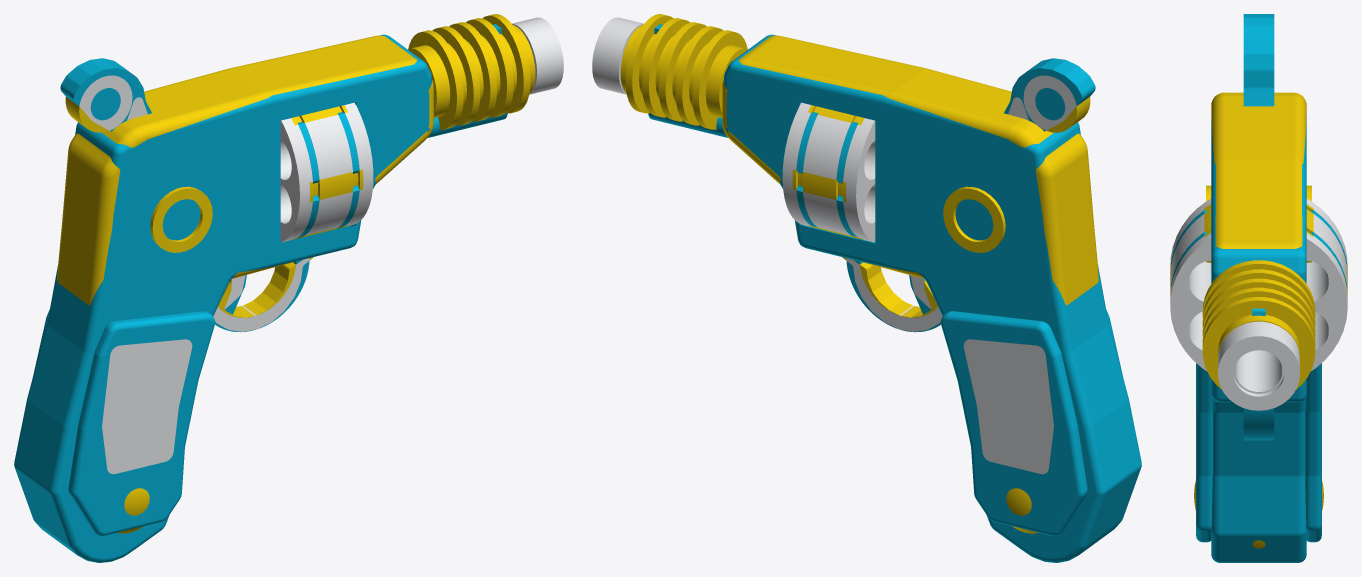
3 renders of one model, left to right at view 1: azimuth 30°, elevation 25°; view 2: azimuth 150°, elevation 25°; view 3: azimuth 270°, elevation 25°, orthographic. The views are drawn at different scales.
Visible parts, largest first — view 1: =>[0:1:1:59], =>[0:1:1:60], =>[0:1:1:86], =>[0:1:1:98], =>[0:1:1:108], =>[0:1:1:41], =>[0:1:1:32], =>[0:1:1:95], =>[0:1:1:62], =>[0:1:1:56], =>[0:1:1:99], =>[0:1:1:89] (+7 smaller); view 2: =>[0:1:1:59], =>[0:1:1:60], =>[0:1:1:85], =>[0:1:1:98], =>[0:1:1:108], =>[0:1:1:38], =>[0:1:1:32], =>[0:1:1:95], =>[0:1:1:62], =>[0:1:1:56], =>[0:1:1:100], =>[0:1:1:89] (+7 smaller); view 3: =>[0:1:1:60], =>[0:1:1:98], =>[0:1:1:32], =>[0:1:1:108], =>[0:1:1:56], =>[0:1:1:89], =>[0:1:1:62], =>[0:1:1:85], =>[0:1:1:86], =>[0:1:1:33], =>[0:1:1:92].
Part boxes in pixels (x1,y1,x2,y2): =>[0:1:1:59]: (102,74,429,334); =>[0:1:1:60]: (14,179,375,562); =>[0:1:1:86]: (68,311,214,535); =>[0:1:1:98]: (102,35,417,147); =>[0:1:1:108]: (408,14,535,129); =>[0:1:1:41]: (102,339,192,474); =>[0:1:1:32]: (280,102,373,242); =>[0:1:1:95]: (57,133,120,305); =>[0:1:1:62]: (150,34,431,138); =>[0:1:1:56]: (512,17,563,94); =>[0:1:1:99]: (150,186,212,252); =>[0:1:1:89]: (60,58,151,131); =>[0:1:1:59]: (726,74,1053,334); =>[0:1:1:60]: (780,179,1141,562); =>[0:1:1:85]: (941,311,1087,535); =>[0:1:1:98]: (738,35,1053,147); =>[0:1:1:108]: (620,14,747,129); =>[0:1:1:38]: (963,339,1053,474); =>[0:1:1:32]: (782,102,875,242); =>[0:1:1:95]: (1035,133,1098,305); =>[0:1:1:62]: (724,34,1005,138); =>[0:1:1:56]: (592,17,643,94); =>[0:1:1:100]: (943,186,1005,252); =>[0:1:1:89]: (1004,58,1095,131); =>[0:1:1:60]: (1211,379,1306,562); =>[0:1:1:98]: (1211,92,1306,248); =>[0:1:1:32]: (1170,199,1347,370); =>[0:1:1:108]: (1202,260,1315,389); =>[0:1:1:56]: (1218,321,1299,410); =>[0:1:1:89]: (1243,14,1274,106); =>[0:1:1:62]: (1211,115,1306,283); =>[0:1:1:85]: (1305,363,1321,542); =>[0:1:1:86]: (1196,363,1212,542); =>[0:1:1:33]: (1233,350,1284,393); =>[0:1:1:92]: (1243,408,1274,440).
Bounding box in the file's own units: 154 × 138 × 40.93.
